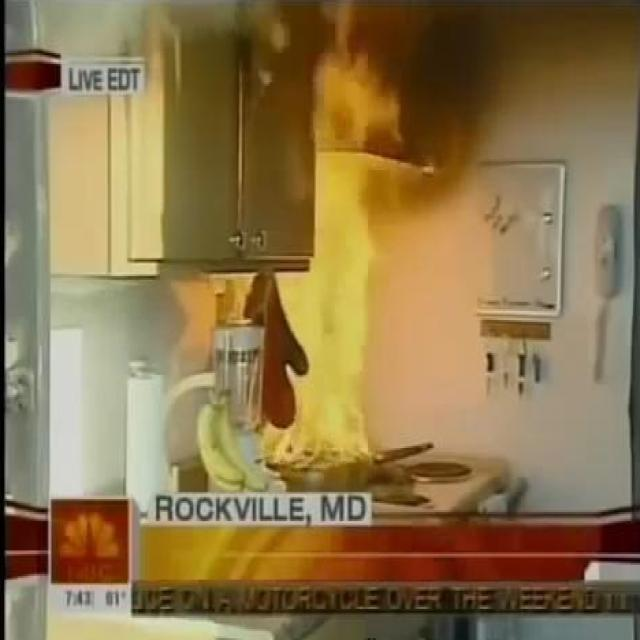fire: (4, 0, 279, 75)
smoke: (237, 10, 400, 469)
